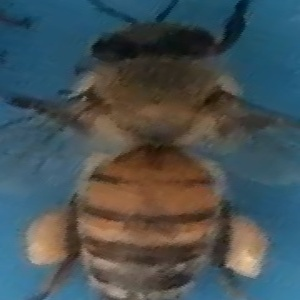bee: (10, 7, 293, 300)
